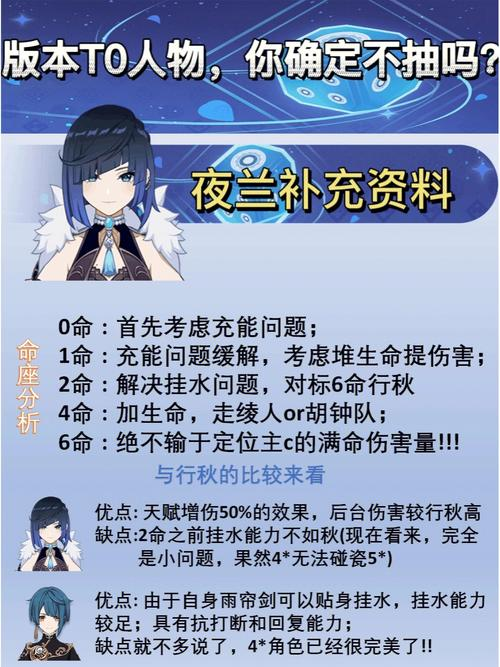夜兰: (27, 106, 181, 286), (14, 494, 87, 579)
